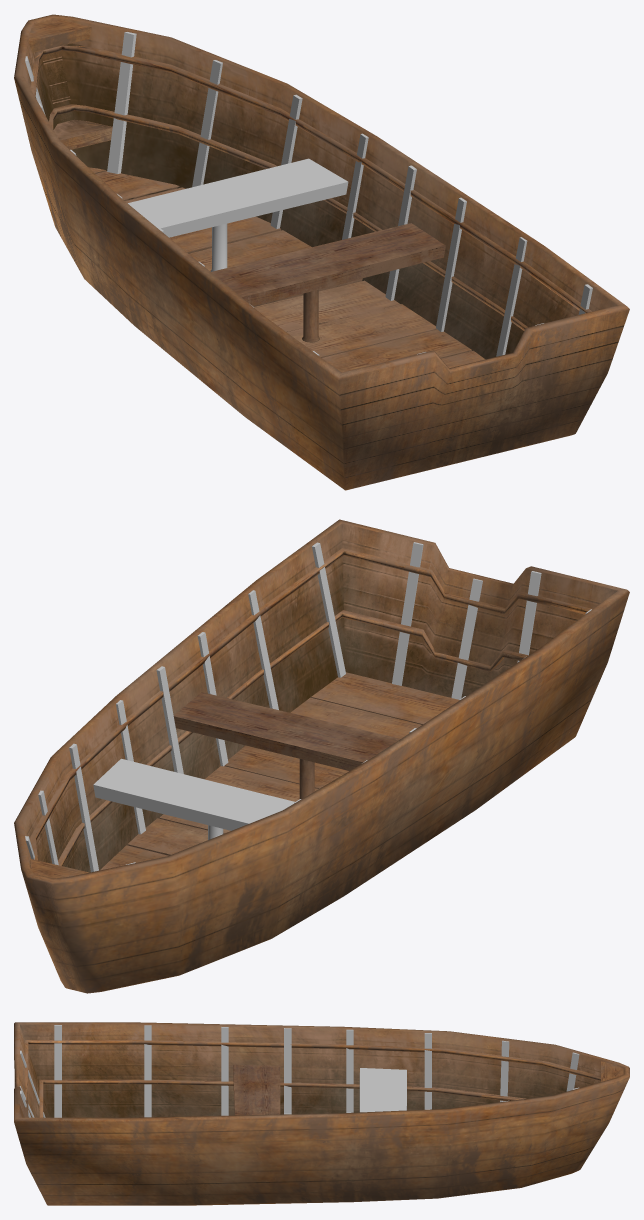
File: SM_WoodenBoat_1.fbx
3 views of the same model, one above another, from view 1: azimuth 30°, elevation 25°; view 2: azimuth 150°, elevation 25°; view 3: azimuth 270°, elevation 25° (orthographic). The views are drawn at different scales.
Visible parts, largest first — view 1: SM_Wooden_Boat_1_JFG; view 2: SM_Wooden_Boat_1_JFG; view 3: SM_Wooden_Boat_1_JFG.
Boxes of the visible parts, x1,y1,x2,y2 form: SM_Wooden_Boat_1_JFG: [14, 14, 629, 490]; SM_Wooden_Boat_1_JFG: [14, 519, 629, 993]; SM_Wooden_Boat_1_JFG: [14, 1022, 629, 1205].
Size of the model in its own units: 144 by 65.83 by 381.
